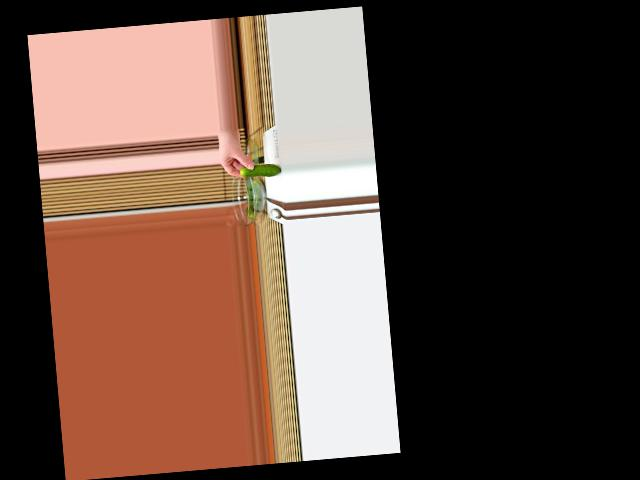cucumber: (239, 162, 281, 178)
